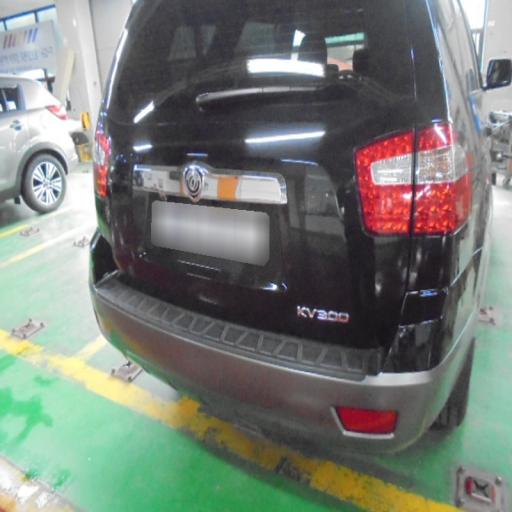normal: (85, 18, 483, 440)
